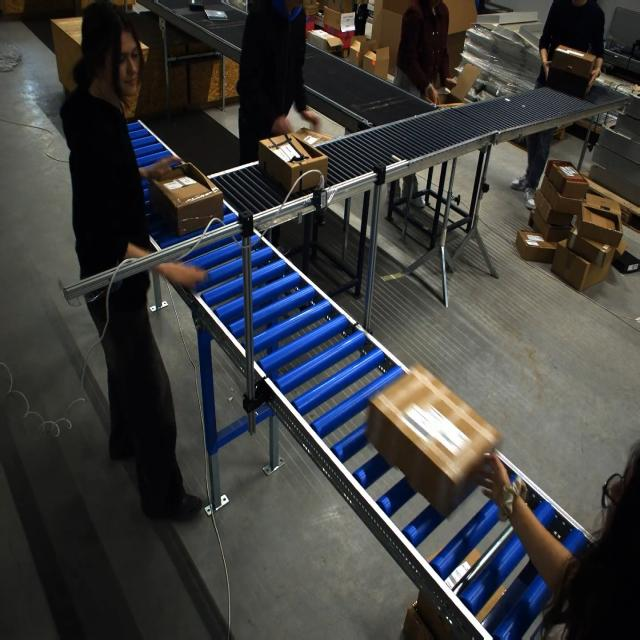box: (369, 368, 497, 480), (148, 159, 223, 237), (257, 130, 325, 196), (427, 64, 482, 108)
product: (204, 9, 228, 21), (189, 1, 205, 11)
